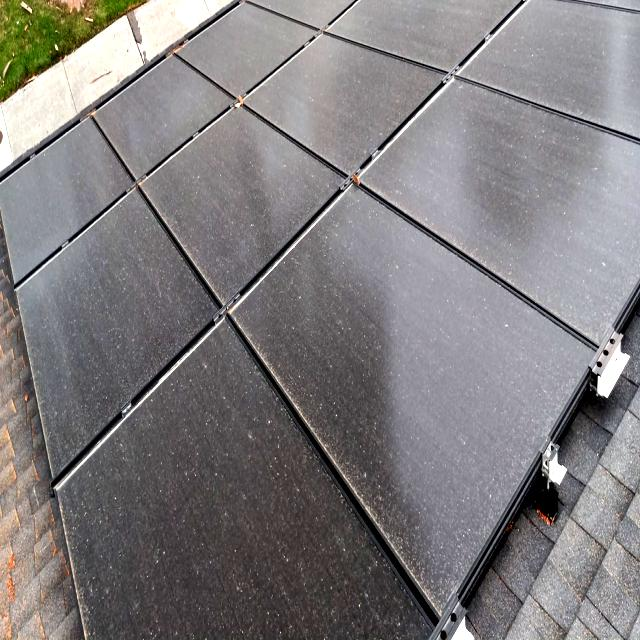dust: (281, 259, 473, 402), (176, 365, 262, 633), (420, 127, 602, 226), (60, 208, 147, 412), (210, 117, 262, 290)
